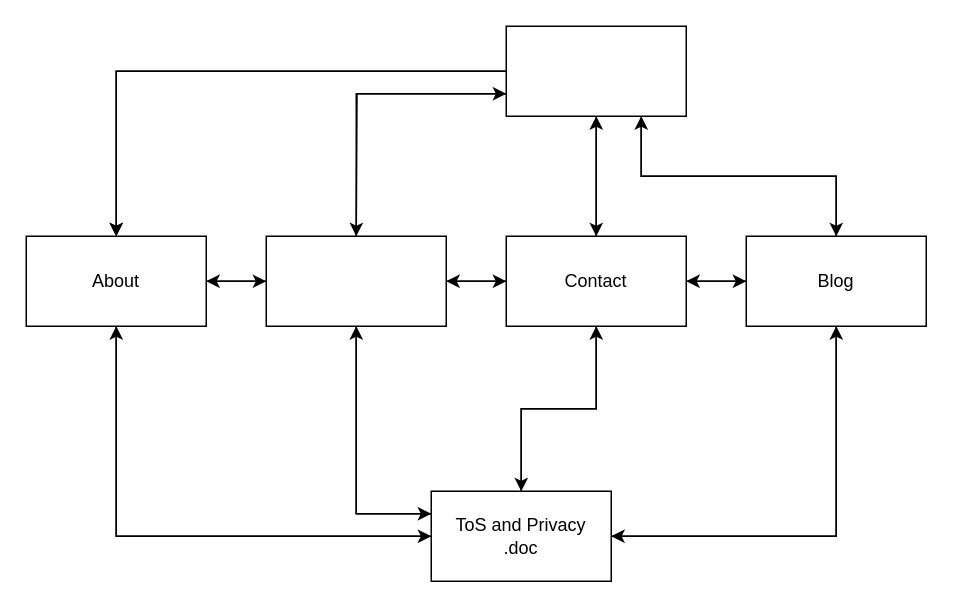
Image size: 953x608. Some labels were removed from this diagram. Here are the shapes that lost their labels. From the top down, the box of each, then its label:
(505, 25, 686, 116): Homepage
(265, 235, 446, 326): Portfolio
